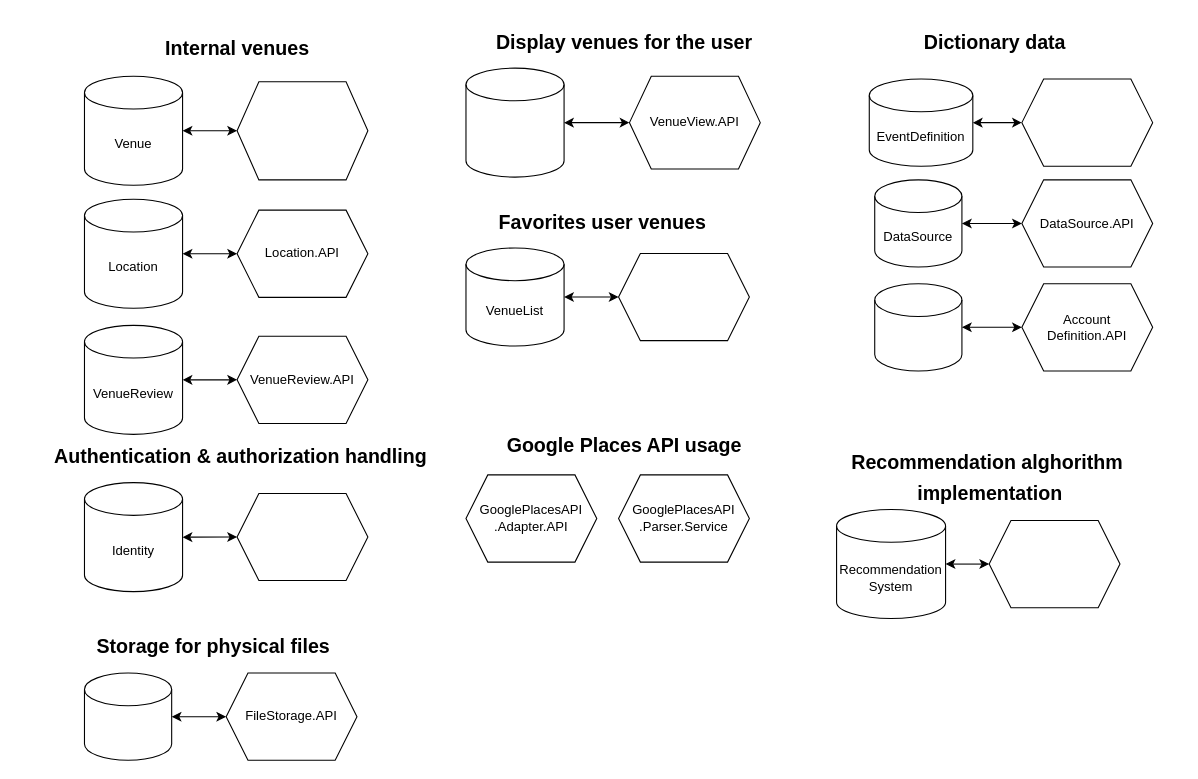
The diagram is 1198 pixels wide and 779 high, and some of its shapes have lost their labels. The centre of each missing label's shape, as x and y in pixels:
Account Definition: (918,327)
EventDefinition.API: (1087,122)
FileStorage: (127,716)
Identity.API: (302,536)
Recommendation System.API: (1054,563)
Venue.API: (302,130)
VenueList.API: (683,296)
VenueView: (514,122)
